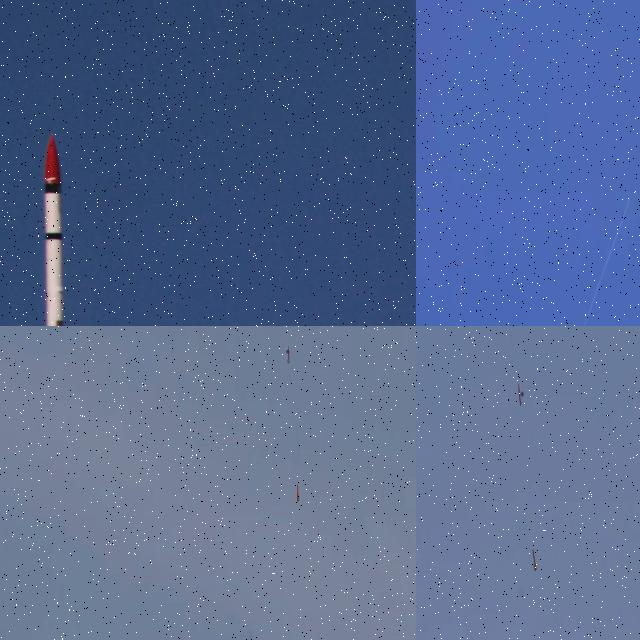Rocket: (23, 131, 90, 326), (531, 548, 538, 572), (296, 484, 300, 502), (630, 195, 631, 199)
